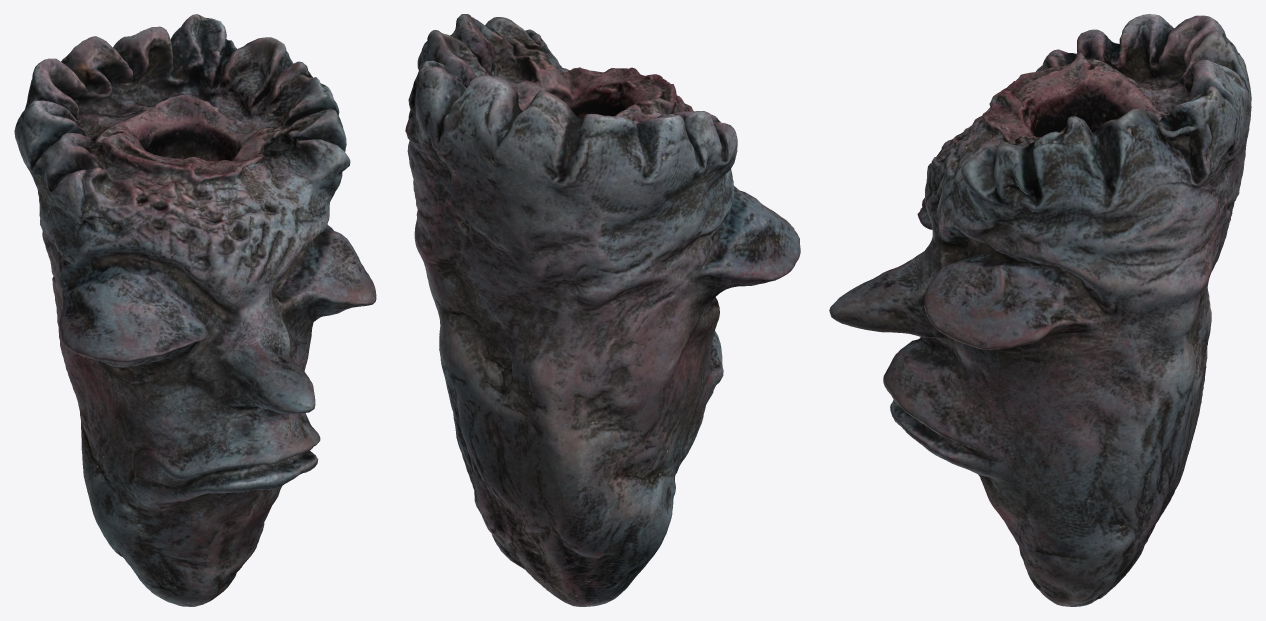
File: env_light_walltorch_mesh_v1.glb
3 views of the same model, side by side, from view 1: azimuth 30°, elevation 25°; view 2: azimuth 150°, elevation 25°; view 3: azimuth 270°, elevation 25° (orthographic). The views are drawn at different scales.
Parts seen in each view (by area): view 1: WallTorch; view 2: WallTorch; view 3: WallTorch.
Boxes of the visible parts, x1,y1,x2,y2 form: WallTorch: (14,14,376,606); WallTorch: (405,14,800,606); WallTorch: (829,14,1251,606).
Size of the model in its own units: 0.7775 by 1.31 by 0.9033.
1 material, 1 textured.
